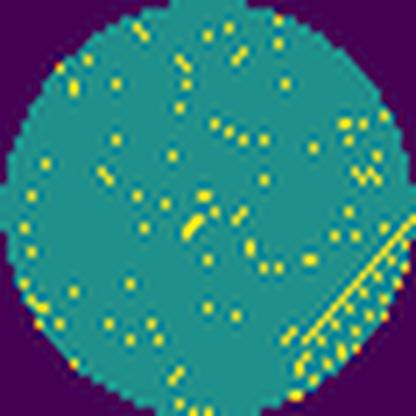Scratch: (298, 209, 416, 349)
